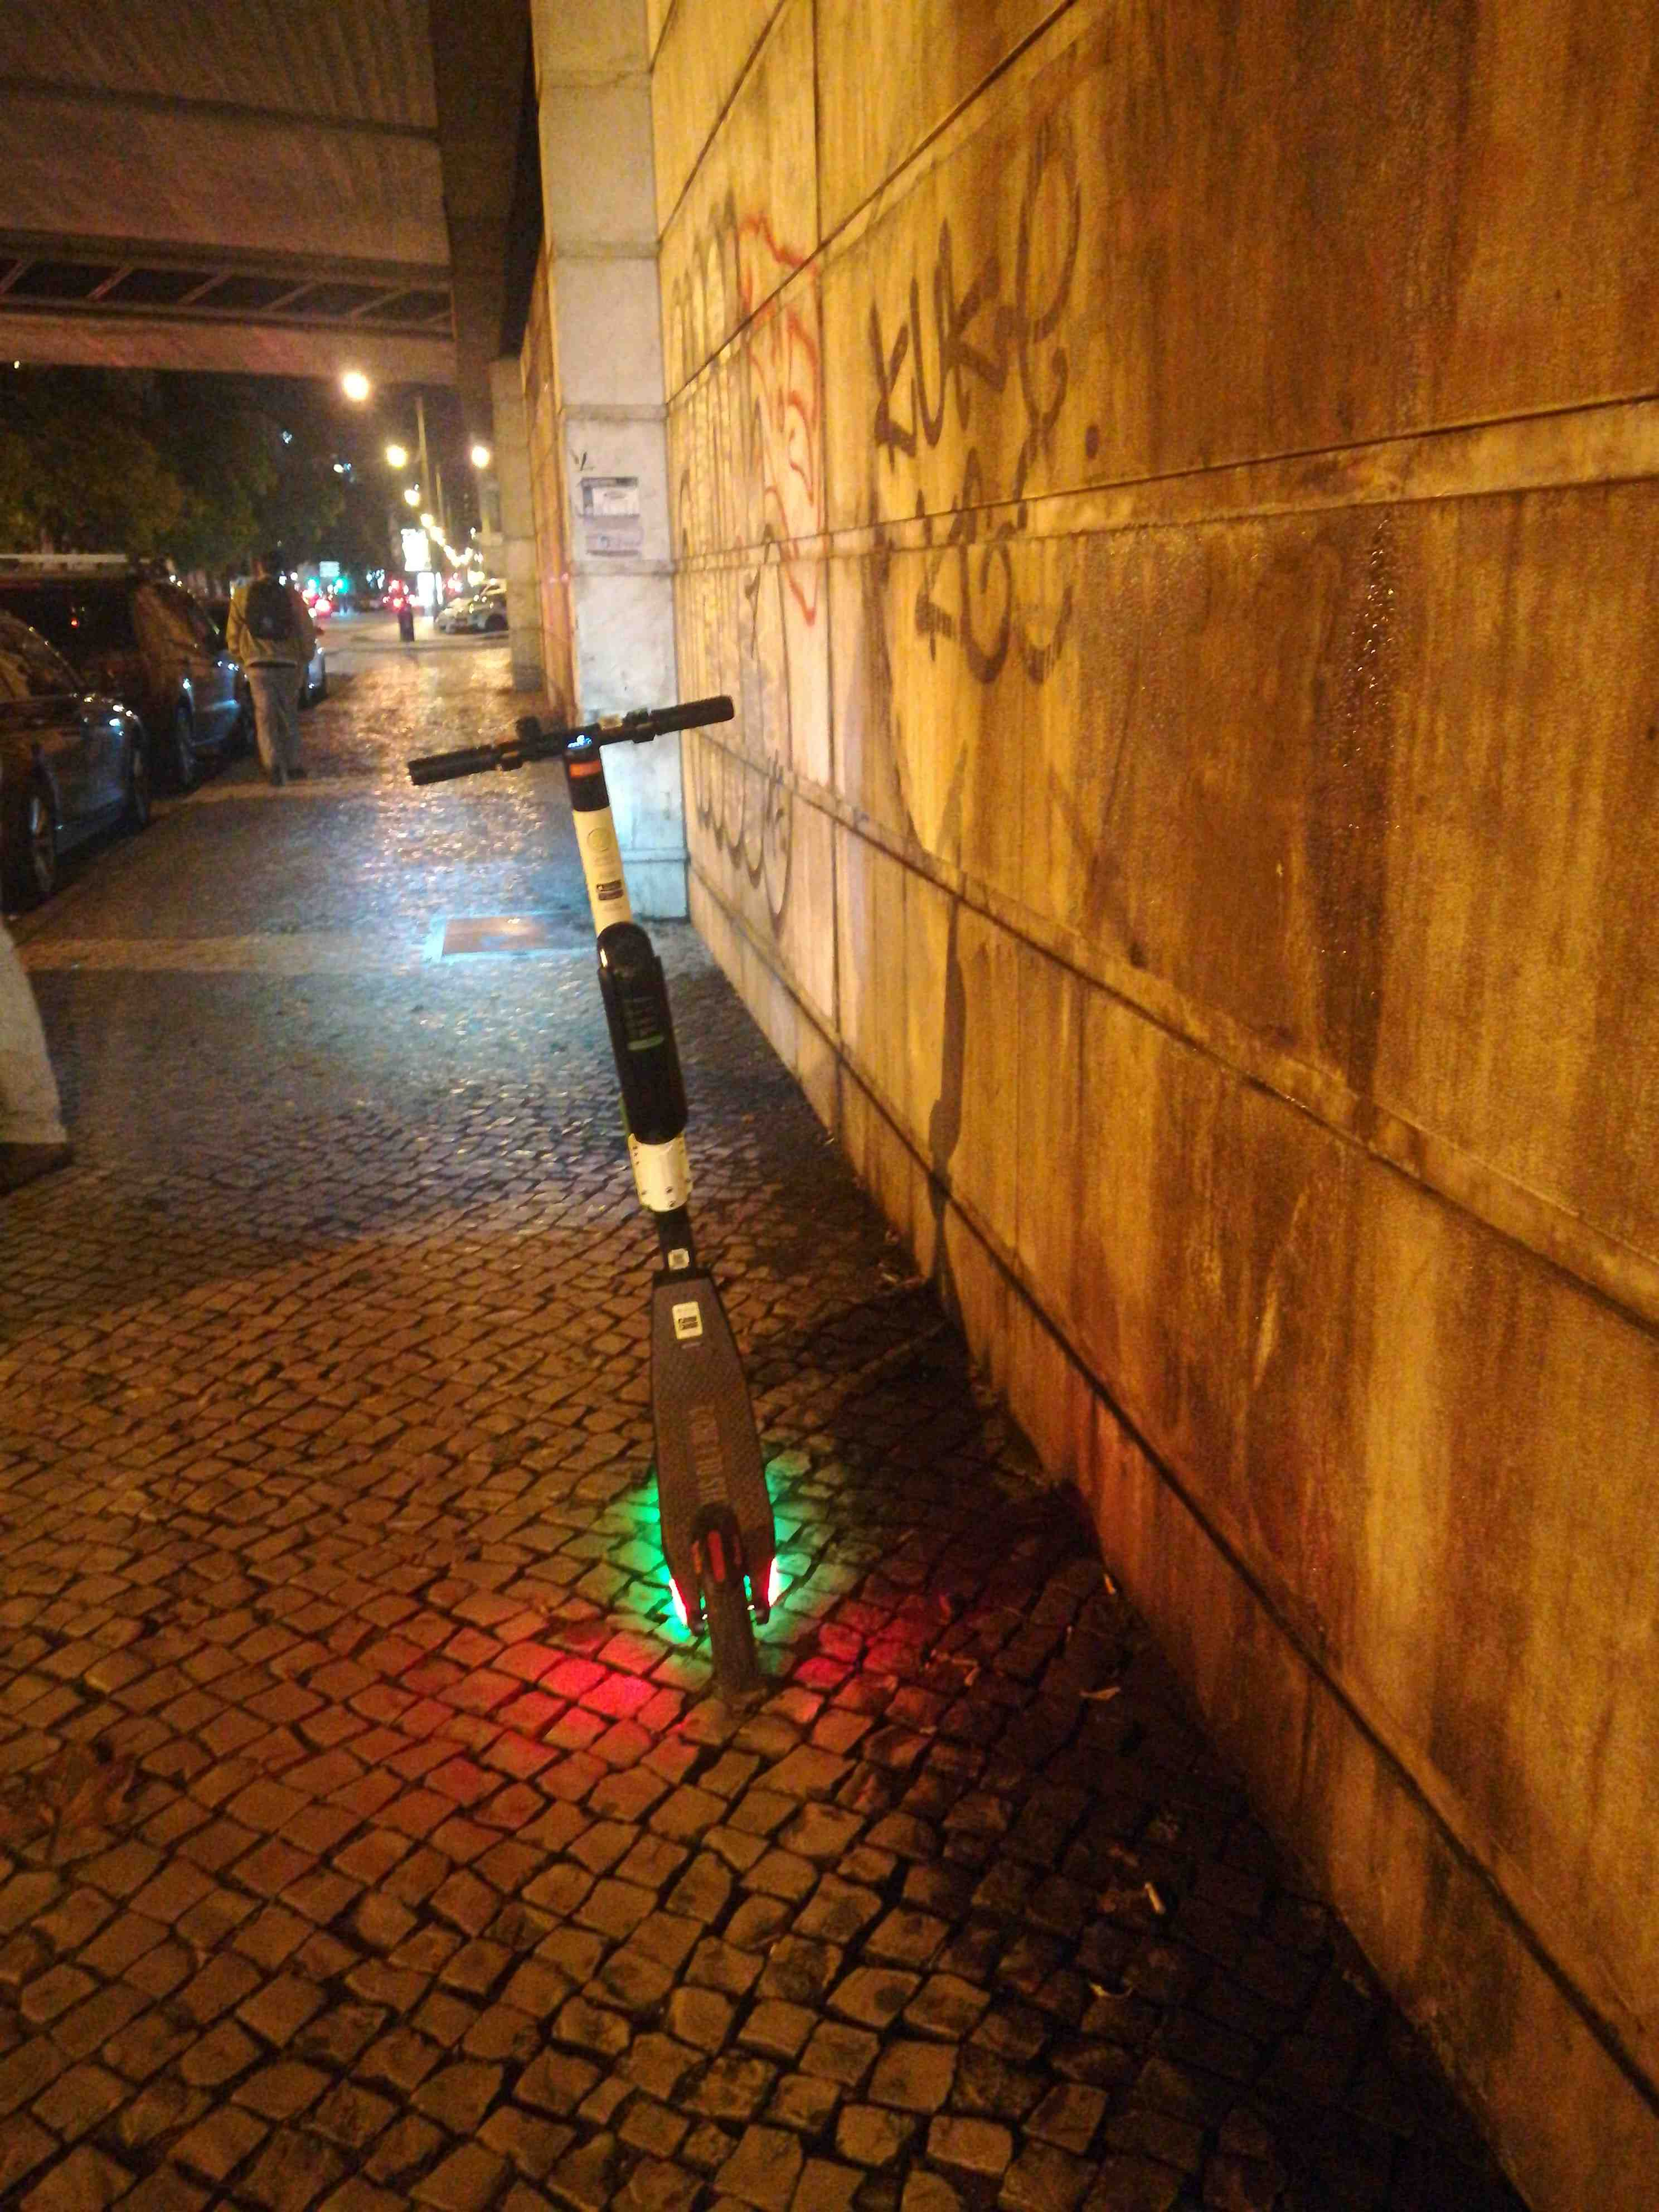scooter: (390, 664, 913, 1707)
